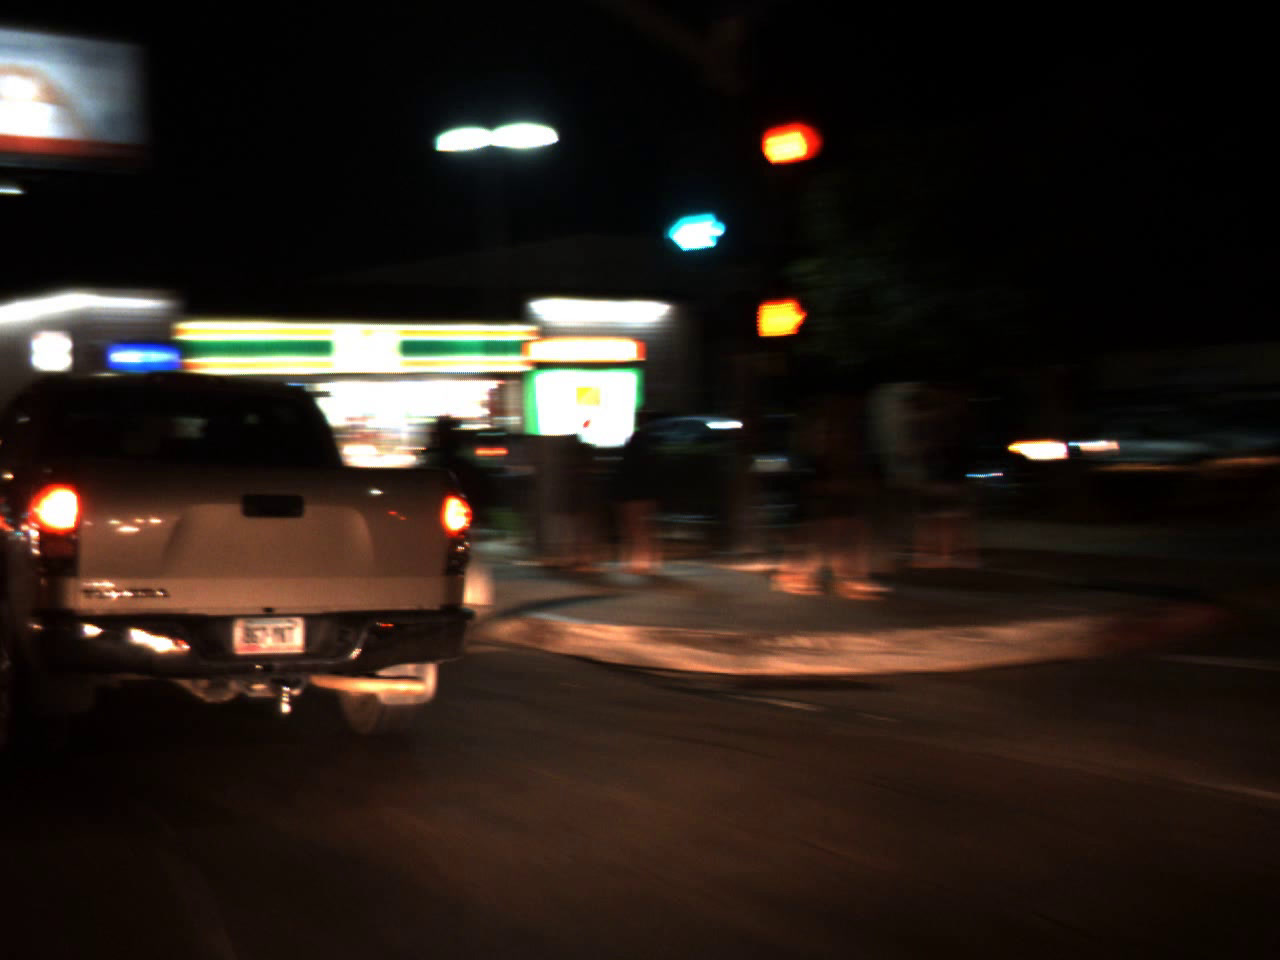go: (653, 187, 737, 262)
